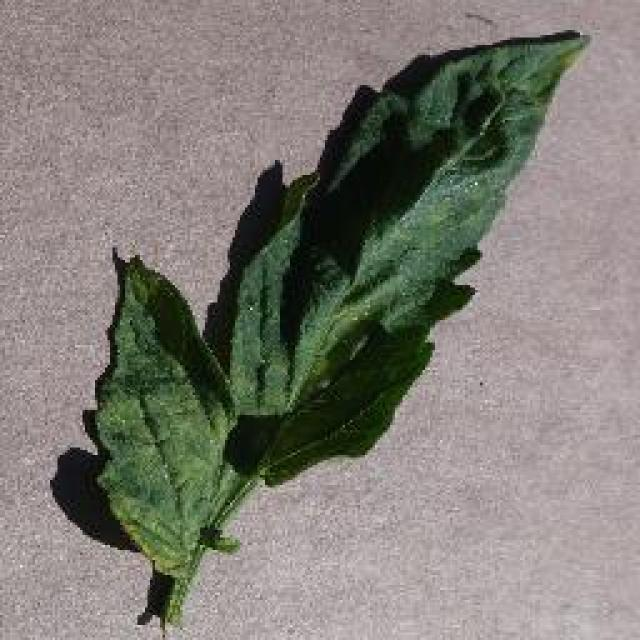Tomato mold leaf: (90, 29, 595, 586)
